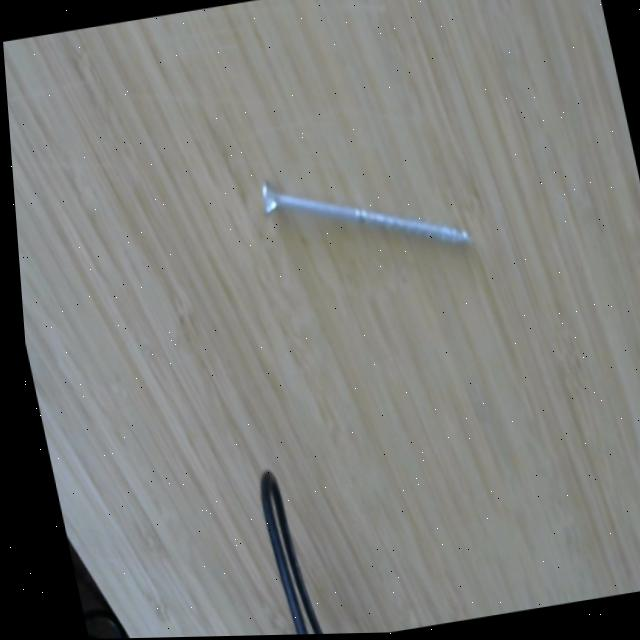Long screw: (244, 143, 473, 283)
